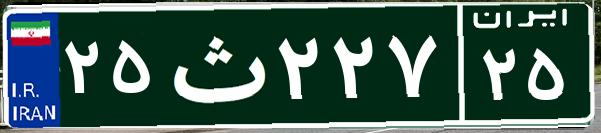2: (273, 28, 330, 110), (330, 28, 385, 110), (57, 26, 110, 107), (475, 38, 525, 113)
5: (110, 28, 158, 105), (525, 38, 570, 115)
7: (385, 28, 445, 110)
ث: (158, 15, 273, 115)
